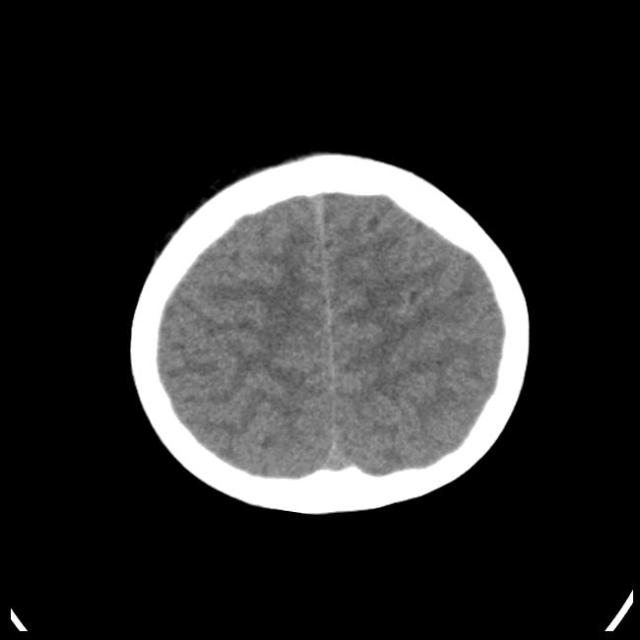lesion: (125, 147, 535, 518)
